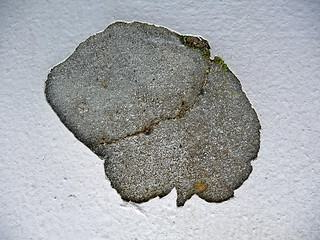Crack: (86, 60, 212, 149)
Spalling: (44, 20, 262, 209)
